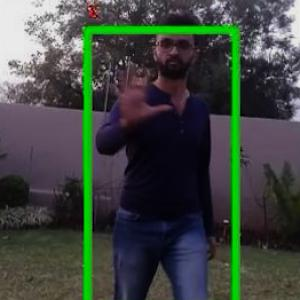follow_hand: (109, 61, 175, 127)
